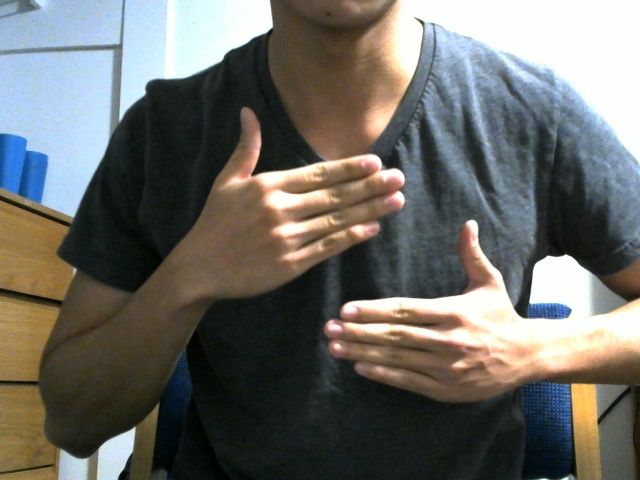Enjoy: (165, 100, 522, 419)
